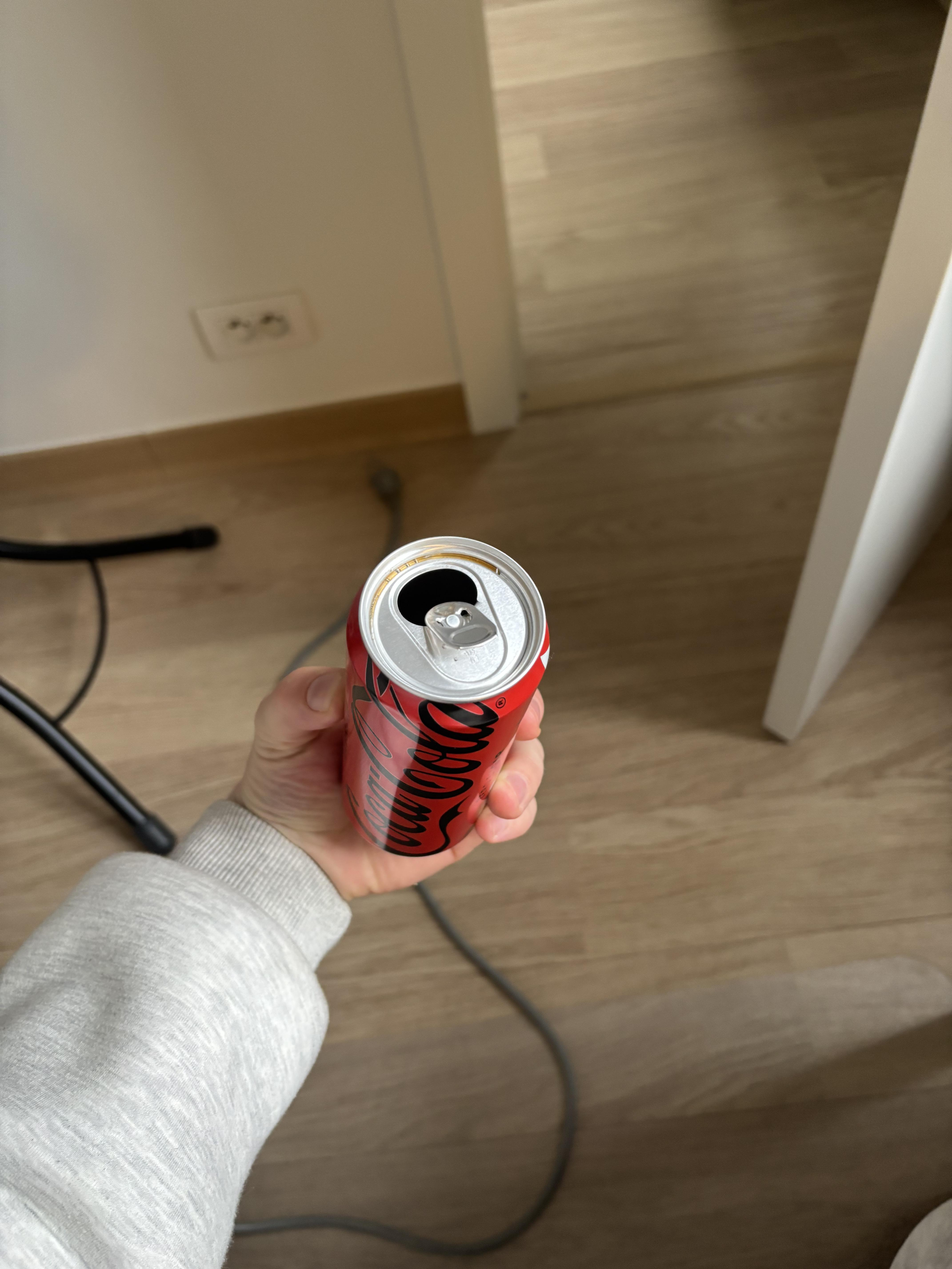Metal: (342, 535, 558, 856)
